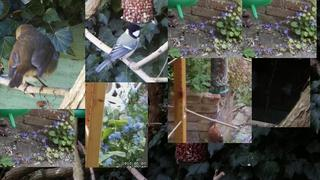great tit: (95, 24, 144, 73)
robin: (7, 24, 61, 95)
